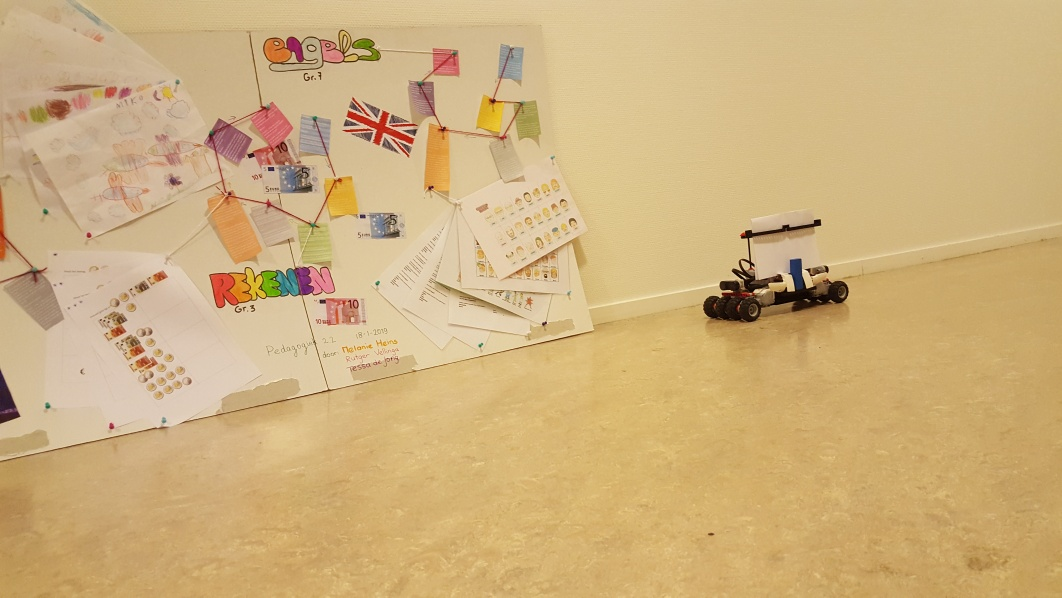car: (703, 210, 850, 321)
